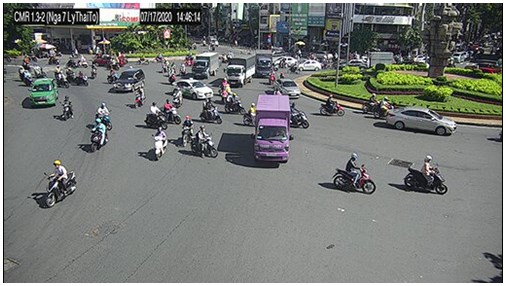xe_hoi: (386, 105, 457, 136), (175, 77, 213, 100), (29, 78, 59, 106), (114, 70, 146, 93), (275, 78, 302, 100), (295, 58, 322, 73), (274, 55, 296, 66)
xe_may: (333, 153, 377, 195), (404, 155, 448, 195), (44, 160, 77, 207), (191, 124, 219, 160), (90, 118, 110, 154), (144, 101, 167, 130), (318, 94, 345, 118), (152, 126, 168, 161), (199, 99, 222, 123), (289, 101, 308, 130), (95, 103, 113, 131), (374, 96, 396, 118), (224, 93, 245, 116), (362, 92, 381, 114), (61, 95, 76, 122), (181, 116, 194, 147), (243, 103, 256, 126), (135, 85, 146, 109), (219, 76, 231, 98), (171, 87, 183, 108), (74, 71, 89, 87), (22, 70, 35, 88), (106, 67, 119, 85), (57, 74, 70, 89), (168, 66, 177, 85), (136, 53, 150, 65), (47, 54, 61, 66), (77, 54, 89, 68), (65, 55, 77, 68), (267, 68, 276, 85), (90, 62, 98, 81), (154, 52, 165, 63)
xe_tai: (254, 94, 291, 163), (223, 55, 254, 87), (191, 52, 219, 79), (360, 50, 394, 67), (255, 50, 272, 79)
